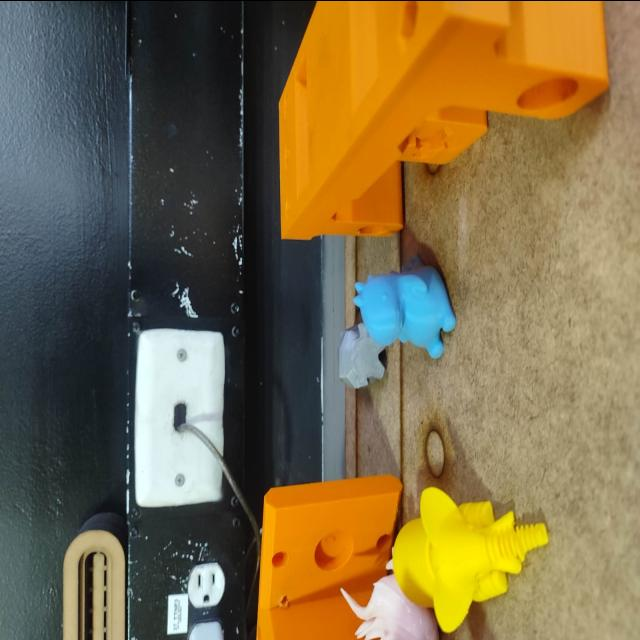DINO: (355, 252, 456, 350)
